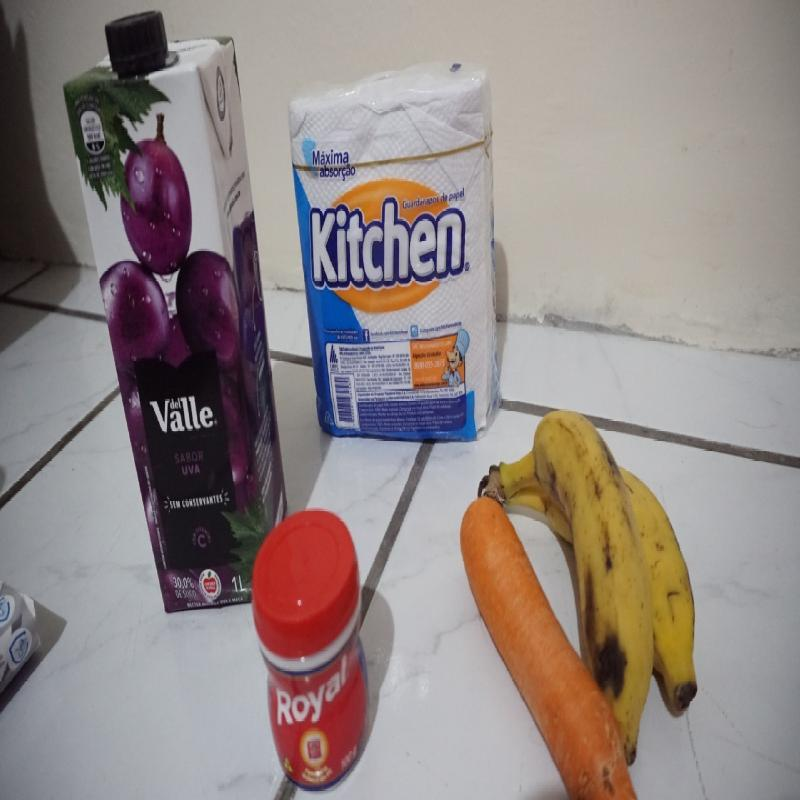Banana: (477, 408, 701, 766)
Carrot: (462, 497, 634, 799)
Napkin: (290, 60, 503, 440)
Soap: (0, 576, 45, 712)
Yeast: (251, 507, 376, 796)
